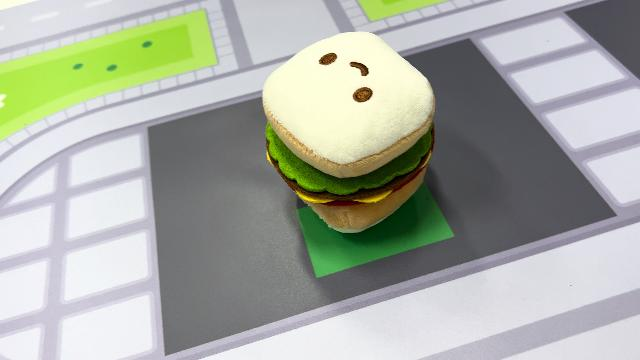sandwich: (259, 29, 439, 235)
